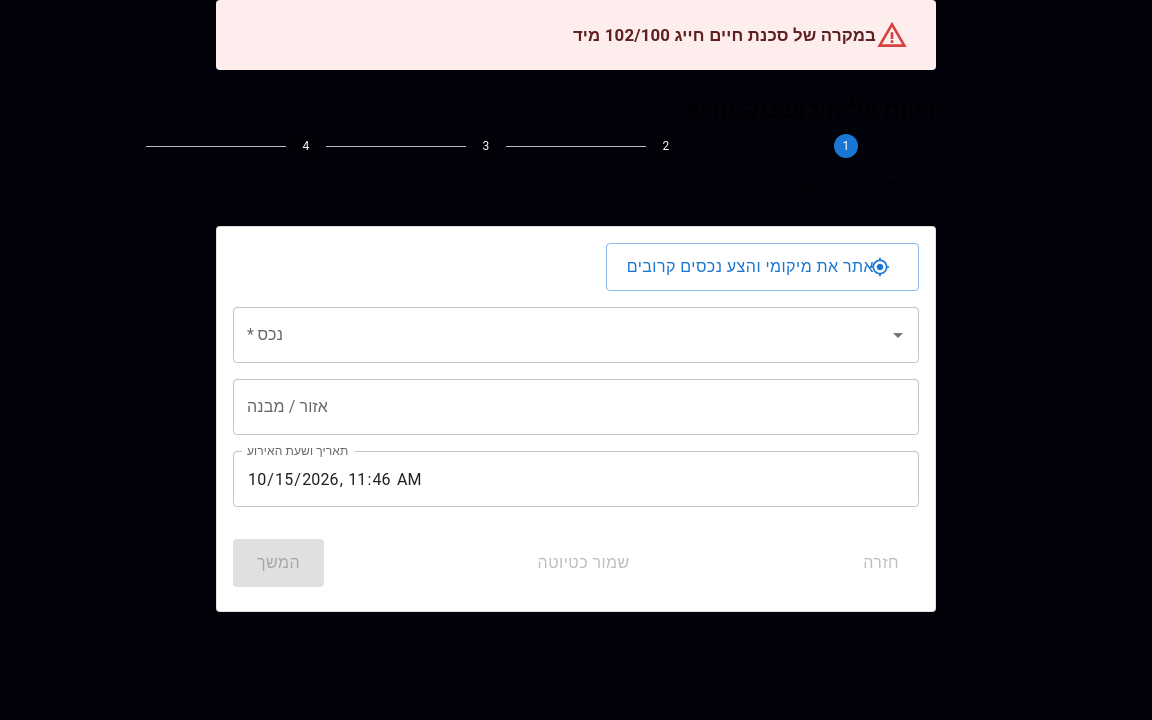
Scenario: IncidentReport — reverse-geocoding autofill › autofills the אזור / מבנה field with the resolved address after a GPS fix
Click the button "אתר את מיקומי והצע נכסים קרובים" at (762, 267), box [606,243,919,291]
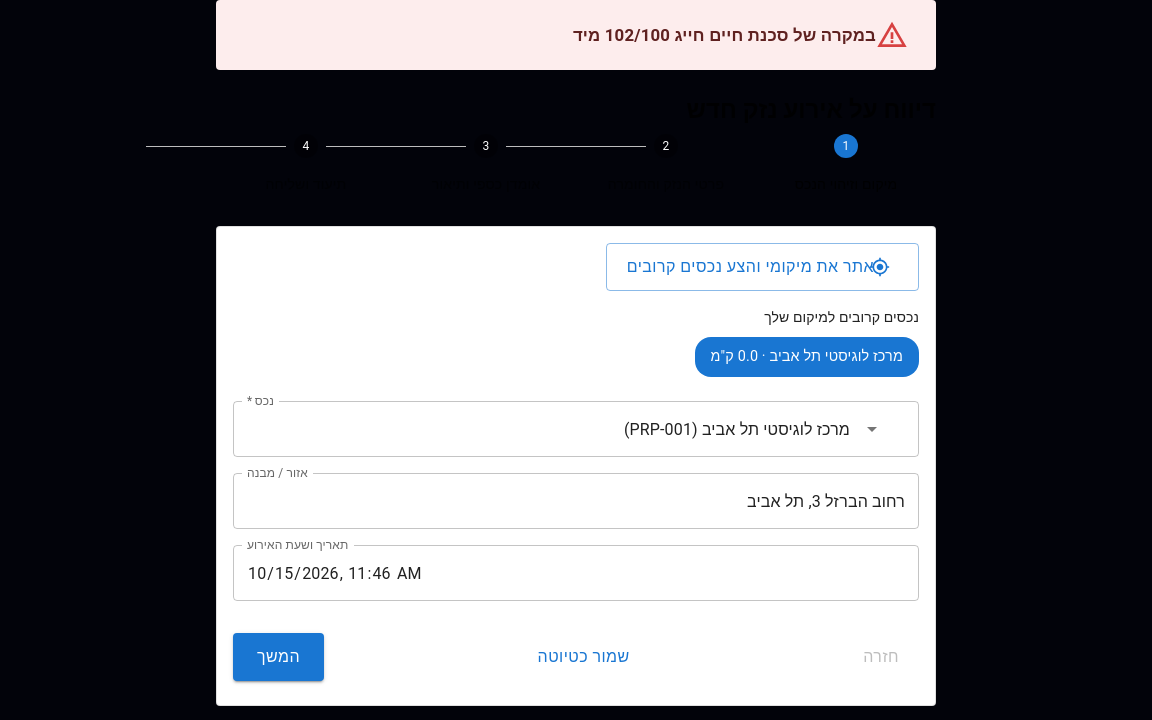
expect the field labelled "אזור / מבנה" holds "רחוב הברזל 3, תל אביב": met, box [233,473,919,529]
